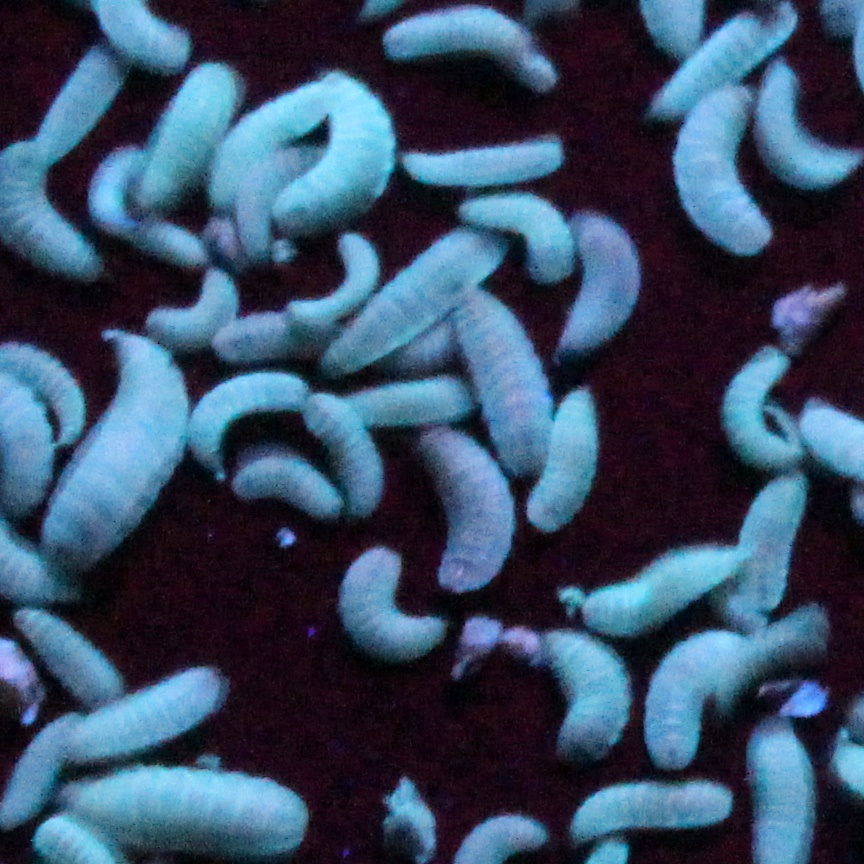larve: (52, 328, 189, 579), (328, 226, 508, 377), (62, 765, 306, 862), (269, 74, 394, 240), (450, 294, 550, 477), (667, 89, 777, 250), (655, 6, 794, 123), (425, 423, 518, 594), (213, 79, 328, 214), (138, 55, 240, 206), (591, 540, 747, 635), (386, 4, 560, 89), (74, 665, 225, 760), (186, 370, 313, 477), (552, 214, 645, 357), (330, 545, 443, 662), (757, 55, 855, 184), (540, 628, 635, 755), (35, 40, 128, 167), (464, 187, 582, 284), (645, 621, 716, 772), (528, 387, 603, 528), (13, 609, 121, 704), (716, 345, 801, 462), (574, 784, 735, 845), (284, 231, 377, 326), (740, 479, 801, 616), (401, 133, 562, 184), (311, 399, 384, 506), (235, 462, 347, 523), (150, 274, 238, 350), (118, 204, 211, 274), (352, 377, 464, 426), (384, 328, 455, 372)
